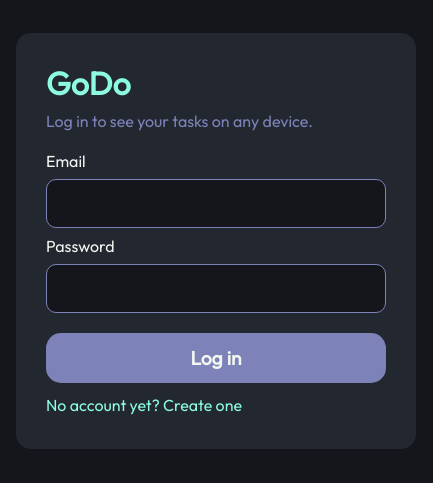
Scenario: LoginPage › shows the server's error
Type "a@example.com" into the field labelled "Email" at (216, 204), box [46,179,386,228]
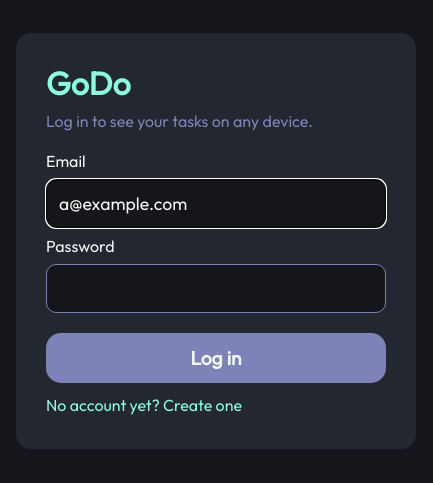
Type "wrong" into the password field labelled "Password" at (216, 288), box [46,264,386,313]
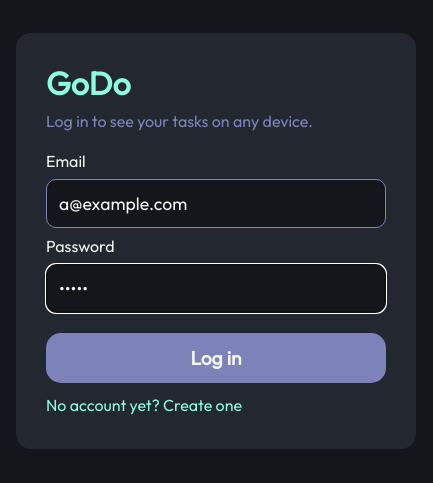
Click the button "Log in" at (216, 358), box [46,333,386,383]
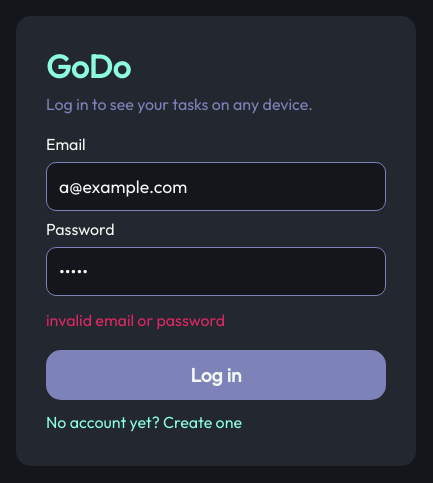
Result: the text "invalid email or password" is shown at [46,310,225,330]
